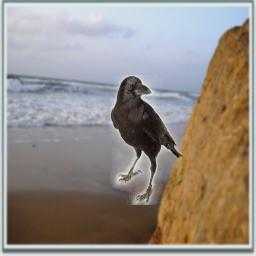Crow: (110, 75, 182, 205)
